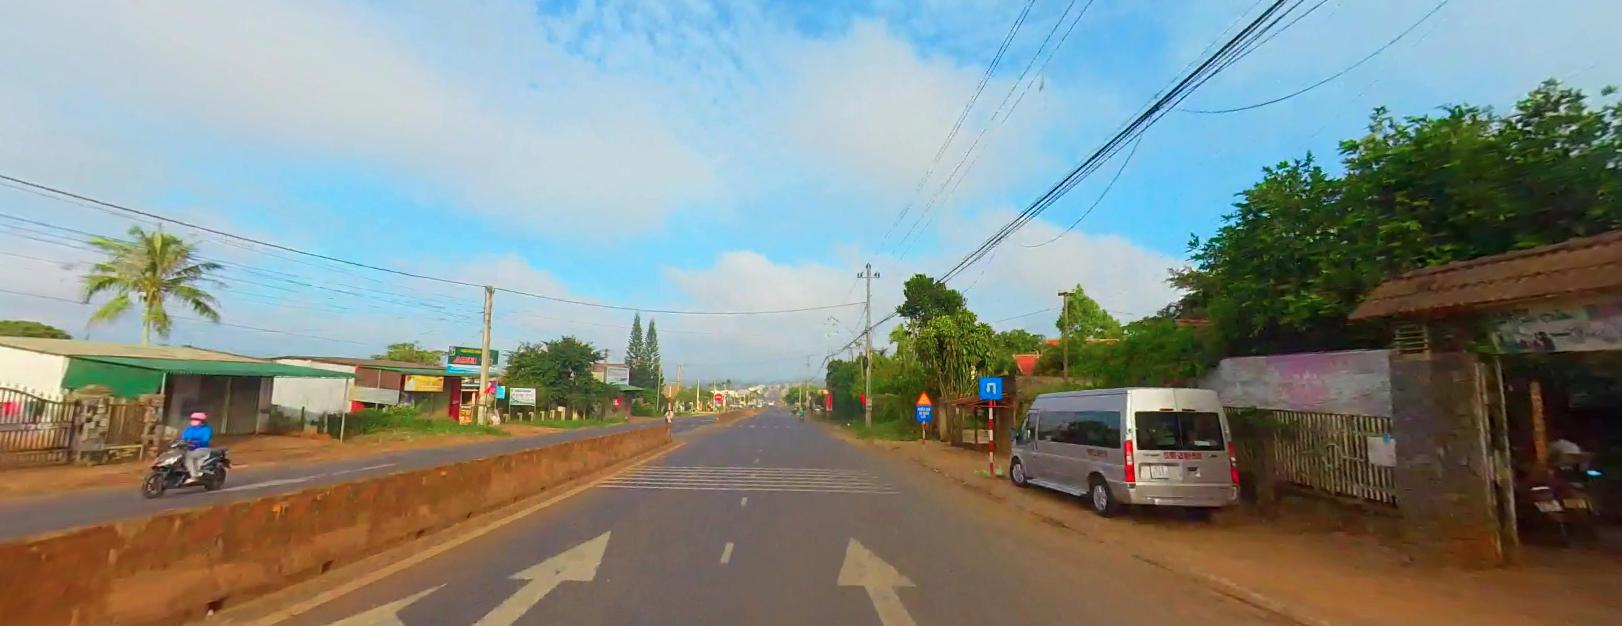Cam nguoc chieu: (714, 392, 721, 399), (714, 392, 721, 398)
Nguy hiem: (915, 388, 932, 403), (915, 389, 932, 403)
